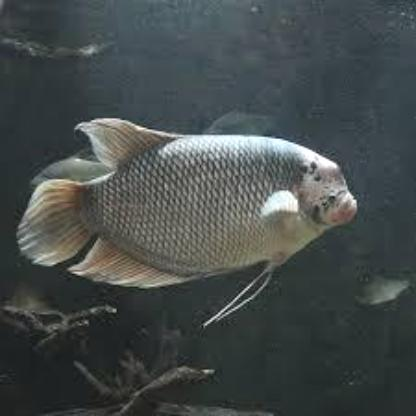gurame: (20, 118, 360, 288)
